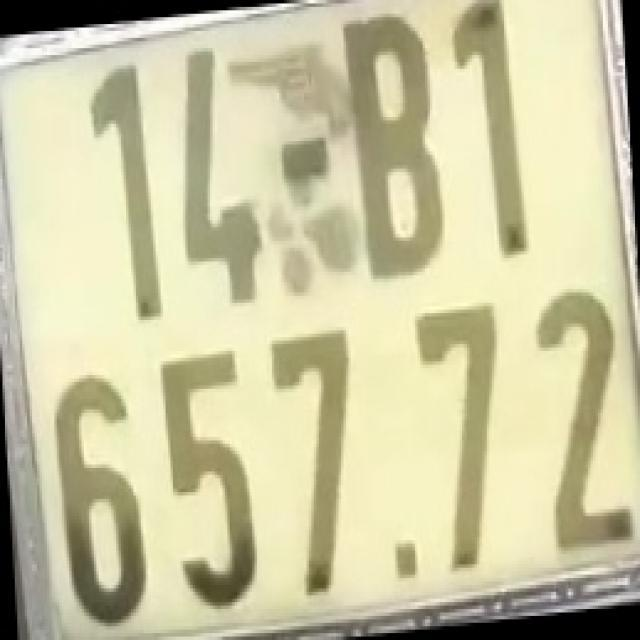1: (449, 0, 542, 258), (82, 54, 168, 323)
2: (528, 278, 638, 558)
4: (173, 38, 272, 314)
5: (156, 340, 260, 612)
6: (49, 364, 151, 626)
7: (408, 296, 507, 578), (270, 321, 358, 598)
B: (334, 7, 449, 286)
